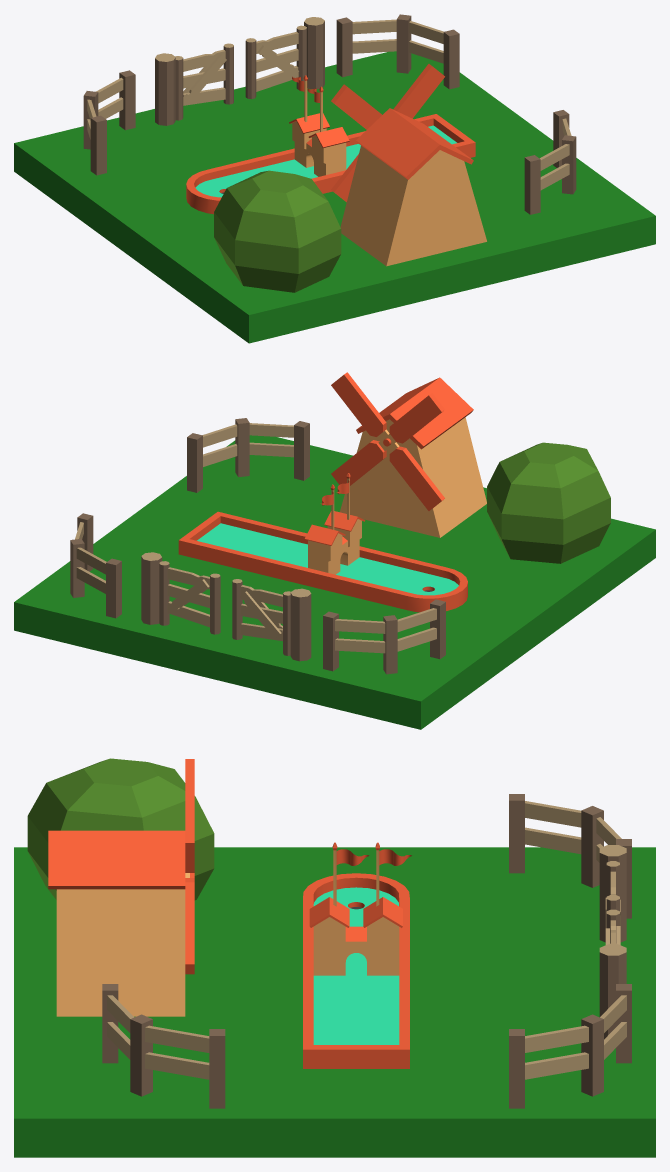
File: minigolf.fbx
3 renders of one model, top to bottom at view 1: azimuth 30°, elevation 25°; view 2: azimuth 150°, elevation 25°; view 3: azimuth 270°, elevation 25°, orthographic. The views are drawn at different scales.
Visible parts, largest first — view 1: building_windmill_217, Grass_Flat_8, Prop_Bush_2_229, Grass_Flat_3, Grass_Flat_6, Grass_Flat_4, Grass_Flat_2, Grass_Flat_7, Grass_Flat_5, Grass_Flat_1, Prop_Fence_Curve_1x1_225, Prop_Fence_Gate_1_226 (+8 smaller); view 2: Grass_Flat_3, Prop_Bush_2_229, building_windmill_217, Grass_Flat_2, Grass_Flat_5, Grass_Flat_4, Grass_Flat_6, Grass_Flat_8, Grass_Flat_1, building_windmill_wings_220, Prop_Fence_Curve_1x1_224, Prop_Fence_Curve_1x1_227 (+10 smaller); view 3: building_windmill_217, Grass_Flat_1, Grass_Flat_8, Grass_Flat_5, Grass_Flat_4, Grass_Flat_3, Grass_Flat_2, Prop_Bush_2_229, Grass_Flat_0, Grass_Flat_7, Prop_Fence_Curve_1x1_227, Prop_Fence_Curve_1x1_225 (+12 smaller).
Boxes of the visible parts, box(x1,y1,x2,y2) form: building_windmill_217: box(340, 108, 486, 266); Grass_Flat_8: box(471, 158, 655, 277); Prop_Bush_2_229: box(214, 170, 341, 292); Grass_Flat_3: box(14, 110, 224, 228); Grass_Flat_6: box(170, 246, 384, 343); Grass_Flat_4: box(150, 80, 360, 165); Grass_Flat_2: box(92, 176, 217, 285); Grass_Flat_7: box(336, 216, 520, 310); Grass_Flat_5: box(290, 51, 498, 131); Grass_Flat_1: box(439, 101, 577, 184); Prop_Fence_Curve_1x1_225: box(336, 14, 459, 89); Prop_Fence_Gate_1_226: box(155, 43, 233, 125); Grass_Flat_3: box(285, 611, 499, 729); Prop_Bush_2_229: box(487, 442, 610, 563); building_windmill_217: box(340, 377, 486, 537); Grass_Flat_2: box(364, 554, 577, 672); Grass_Flat_5: box(14, 545, 227, 663); Grass_Flat_4: box(149, 578, 363, 696); Grass_Flat_6: box(442, 518, 655, 614); Grass_Flat_8: box(171, 435, 352, 520); Grass_Flat_1: box(93, 487, 305, 577); building_windmill_wings_220: box(331, 372, 445, 510); Prop_Fence_Curve_1x1_224: box(323, 599, 445, 674); Prop_Fence_Curve_1x1_227: box(187, 418, 309, 492); building_windmill_217: box(48, 830, 185, 1016); Grass_Flat_1: box(228, 1028, 441, 1157); Grass_Flat_8: box(14, 1028, 227, 1157); Grass_Flat_5: box(442, 1028, 655, 1157); Grass_Flat_4: box(442, 938, 655, 1028); Grass_Flat_3: box(442, 847, 655, 937); Grass_Flat_2: box(228, 847, 441, 937); Prop_Bush_2_229: box(27, 758, 214, 900); Grass_Flat_0: box(228, 938, 441, 1028); Grass_Flat_7: box(14, 938, 227, 1028); Prop_Fence_Curve_1x1_227: box(102, 984, 225, 1108); Prop_Fence_Curve_1x1_225: box(509, 984, 631, 1108).
Bounding box in the file's own units: 30 × 12.09 × 30.
